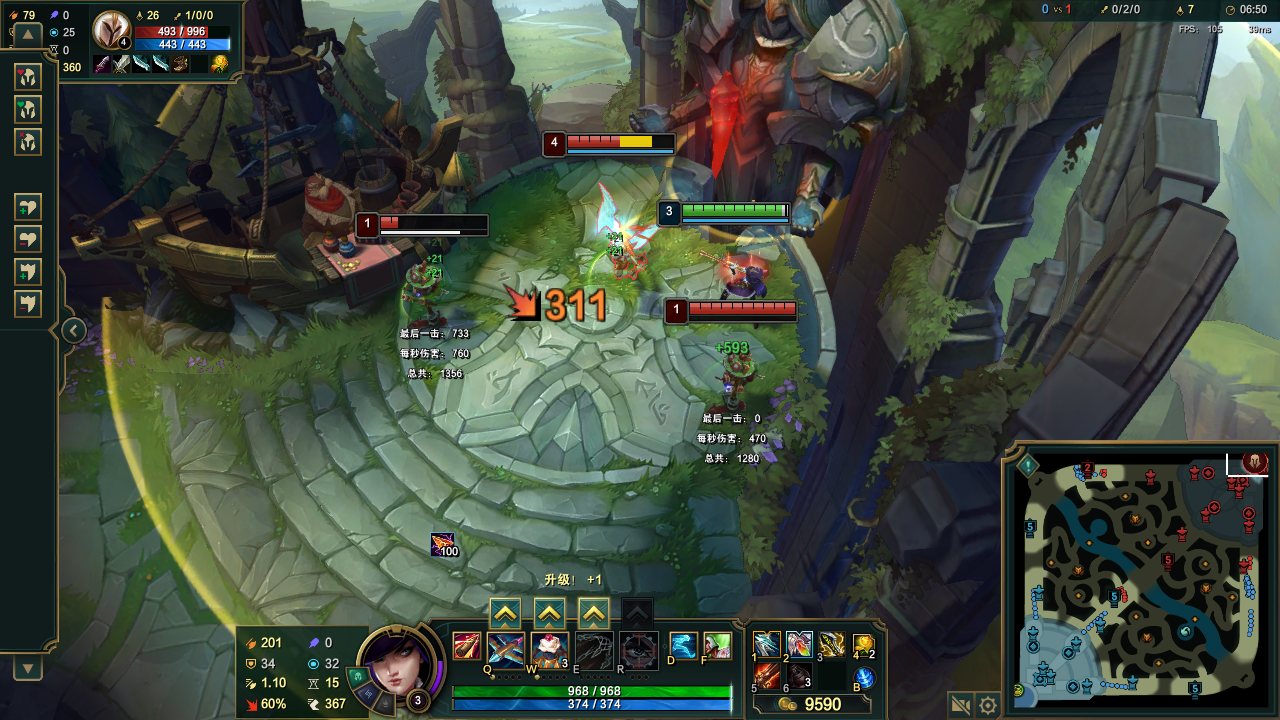DFYX: (686, 296, 803, 313), (565, 132, 677, 147), (378, 214, 494, 227)
